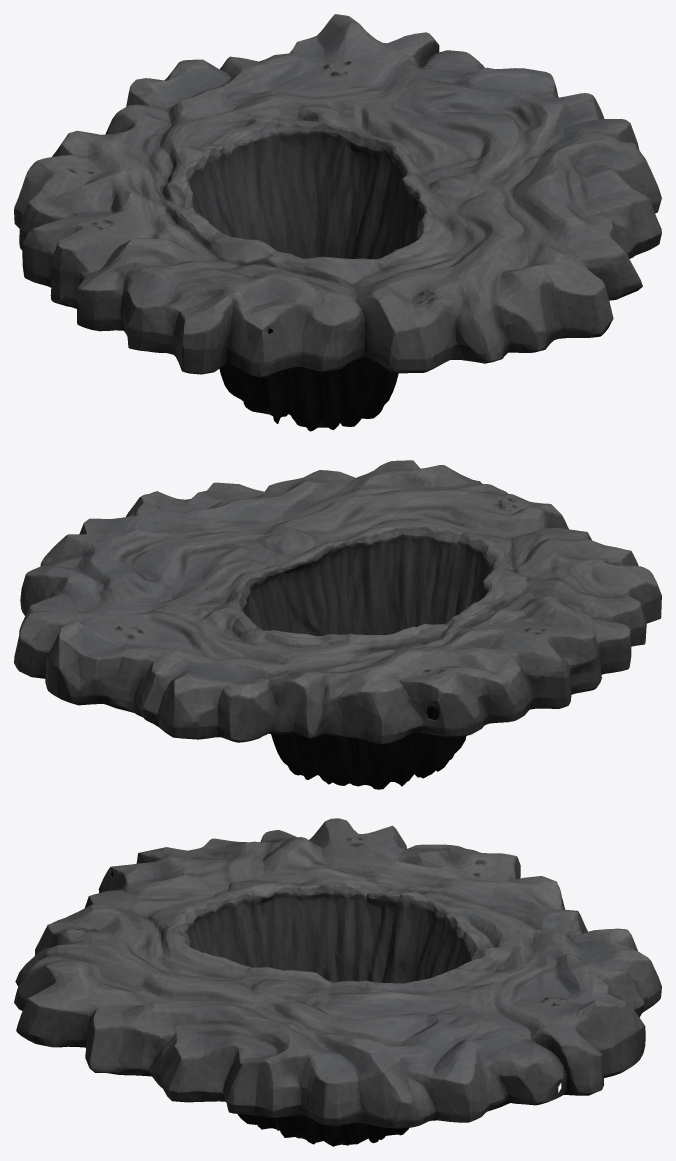
3 renders of one model, top to bottom at view 1: azimuth 30°, elevation 25°; view 2: azimuth 150°, elevation 25°; view 3: azimuth 270°, elevation 25°, orthographic. The views are drawn at different scales.
Parts seen in each view (by area): view 1: world; view 2: world; view 3: world.
Boxes of the visible parts, bbox=[...] form: world: bbox=[14, 14, 661, 431]; world: bbox=[14, 460, 661, 789]; world: bbox=[14, 818, 661, 1146].
Bounding box in the file's own units: 0.9619 × 0.3416 × 0.9929.
1 material, 1 textured.
